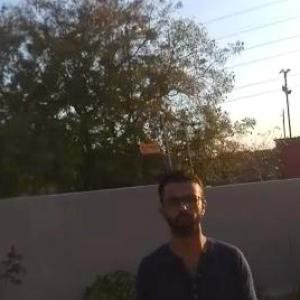follow: (129, 161, 270, 299)
